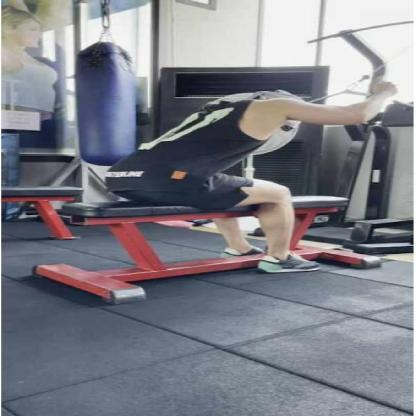Seated Cable Rows: (0, 0, 416, 322)
